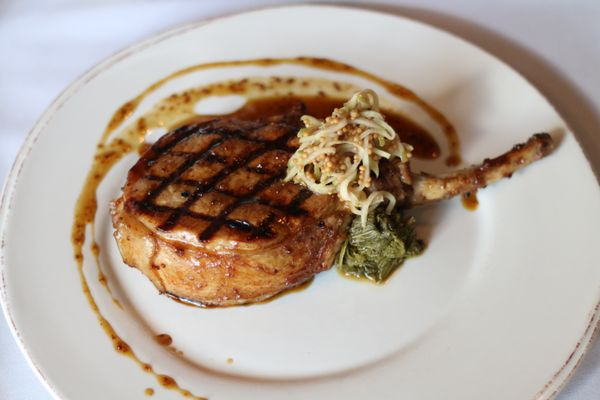curry: (335, 192, 425, 284)
